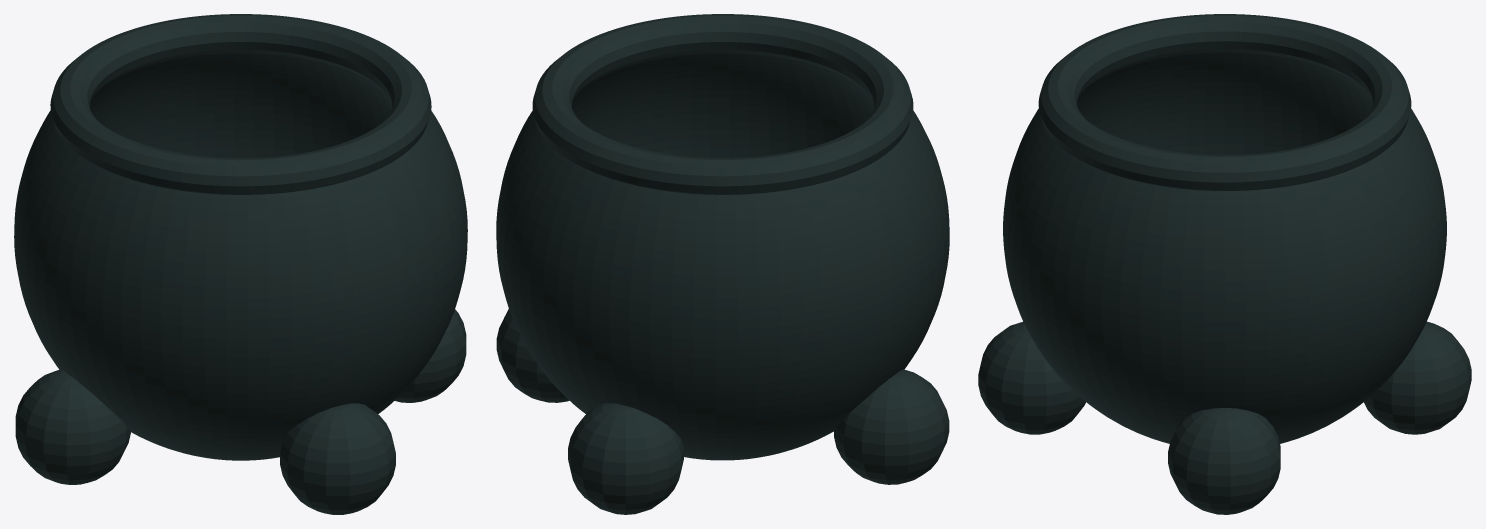
File: Cauldron.obj
3 views of the same model, side by side, from view 1: azimuth 30°, elevation 25°; view 2: azimuth 150°, elevation 25°; view 3: azimuth 270°, elevation 25° (orthographic). The views are drawn at different scales.
Parts seen in each view (by area): view 1: Torus; view 2: Torus; view 3: Torus.
Part boxes in pixels (bbox=[...]): Torus: bbox=[14, 14, 467, 514]; Torus: bbox=[496, 14, 949, 514]; Torus: bbox=[978, 14, 1471, 514].
Bounding box in the file's own units: 1.23 × 0.9496 × 1.23.
2 materials, 2 textured.
